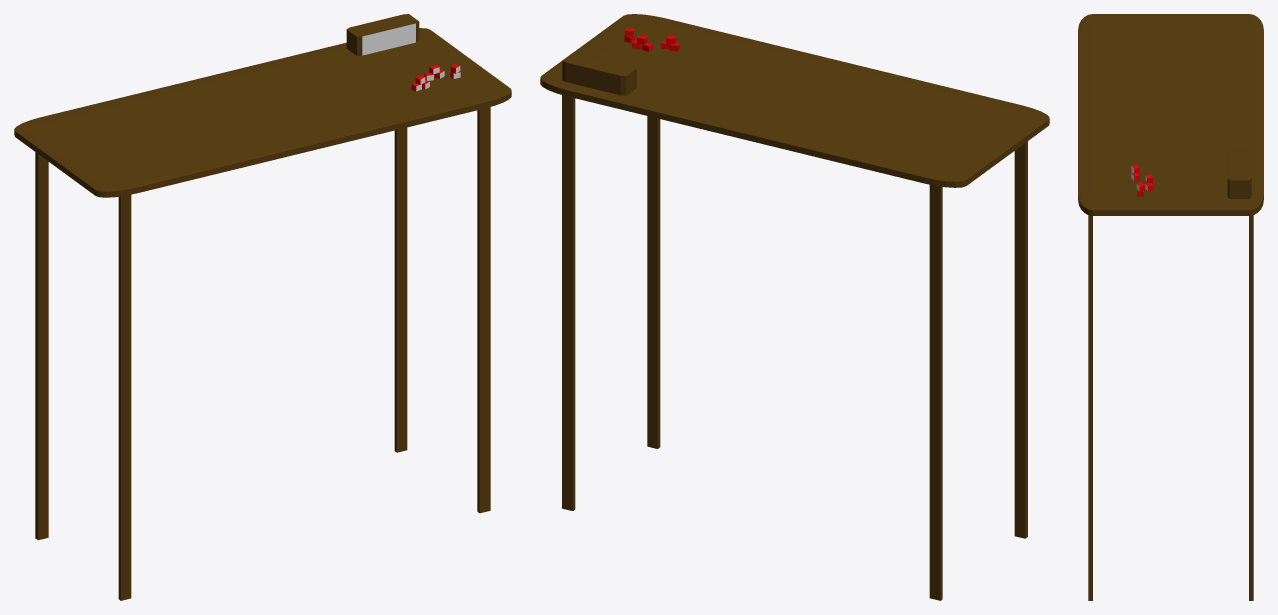
Rendered from table.glb.
3 views of the same model, side by side, from view 1: azimuth 30°, elevation 25°; view 2: azimuth 150°, elevation 25°; view 3: azimuth 270°, elevation 25° (orthographic). The views are drawn at different scales.
Visible parts, largest first — view 1: Cube; view 2: Cube; view 3: Cube.
Boxes of the visible parts, x1,y1,x2,y2 form: Cube: [14, 14, 511, 600]; Cube: [540, 14, 1049, 600]; Cube: [1078, 14, 1263, 600].
Bounding box in the file's own units: 40 × 40.08 × 16.
